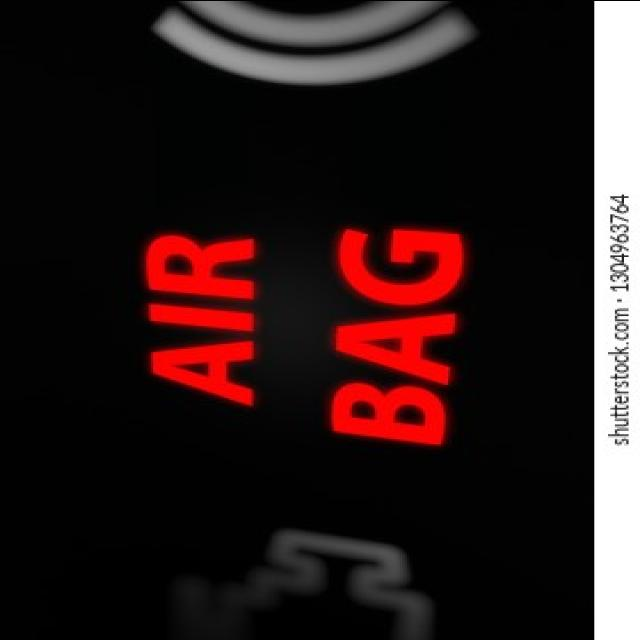SRS-Airbag: (137, 222, 469, 449)
